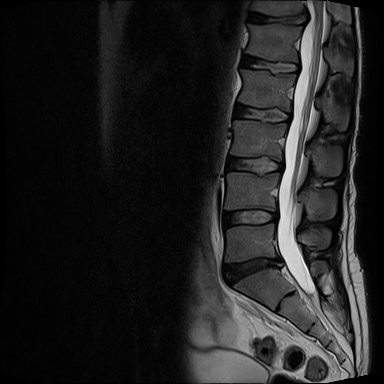Lumbar Disc Bulge (LDB): (217, 243, 286, 292), (218, 199, 282, 232)
Normal IVD: (224, 98, 294, 128), (233, 51, 304, 80), (216, 151, 285, 178)
Spinal Stenosis (SS): (264, 245, 295, 278), (291, 1, 317, 31)
Thoracic Disc Bulge (TDB): (237, 5, 313, 30)
